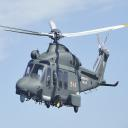helicopter: (1, 11, 128, 115)
